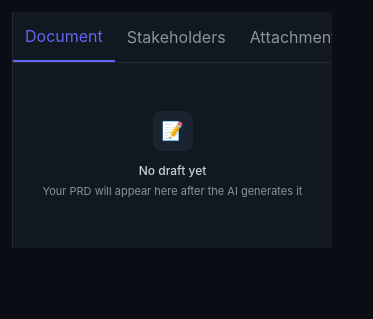
Scenario: ContextPanel › switches to attachments tab
Step 1. Click the button with test id "tab-attachments" → (297, 37), box [238,12,357,62]
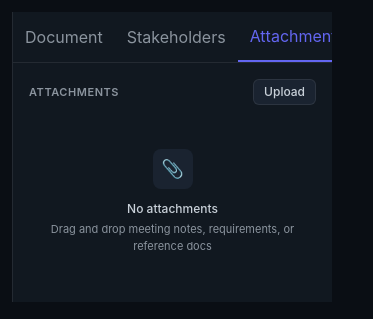
Expected: the element with test id "attachments-tab" is shown, [29,79,316,286]
Expected: the text "No attachments" is shown, [127,201,218,217]
